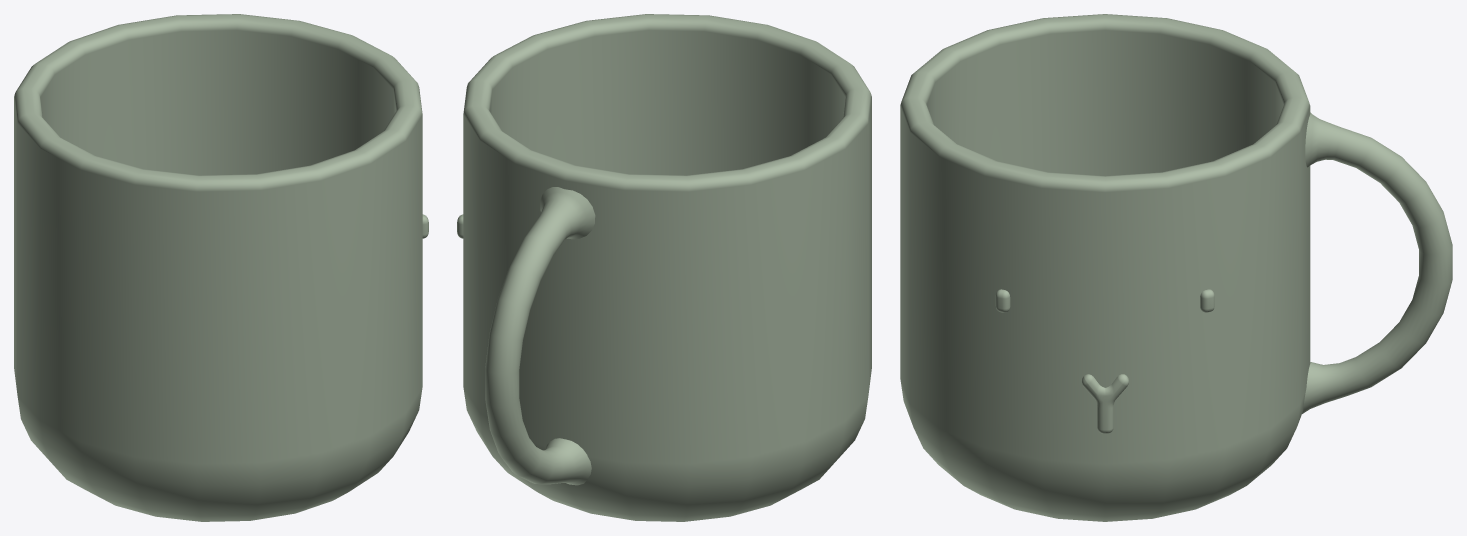
File: beker.fbx
The picture shows the model from 3 angles, left to right: view 1: azimuth 30°, elevation 25°; view 2: azimuth 150°, elevation 25°; view 3: azimuth 270°, elevation 25°; orthographic projection.
Visible parts, largest first — view 1: pTorus4; view 2: pTorus4; view 3: pTorus4.
Boxes of the visible parts, x1,y1,x2,y2 form: pTorus4: (14,14,428,521); pTorus4: (457,14,871,521); pTorus4: (900,14,1452,521).
Bounding box in the file's own units: 17.08 × 16.88 × 22.74.
